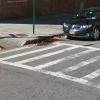Car: (56, 3, 100, 51)
